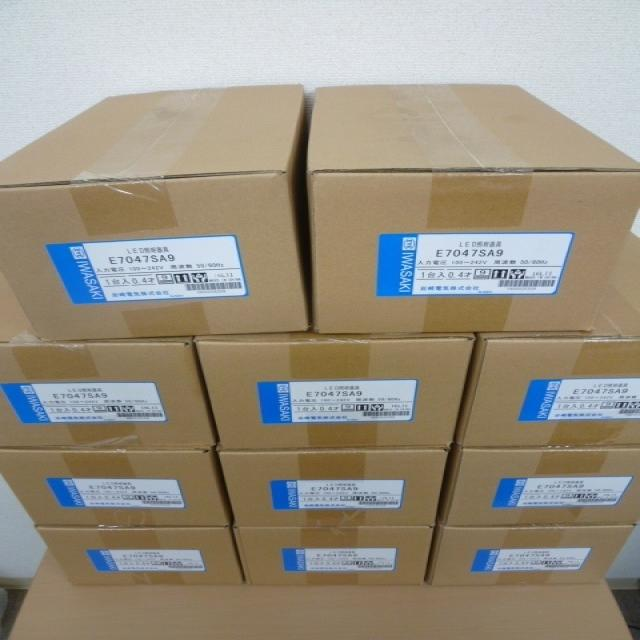box: (305, 85, 639, 333), (3, 83, 315, 340), (1, 266, 217, 449), (456, 232, 640, 446), (193, 335, 476, 448), (0, 449, 231, 527), (220, 449, 451, 526), (441, 447, 639, 524), (37, 527, 245, 588), (428, 526, 635, 585), (235, 526, 435, 585)
